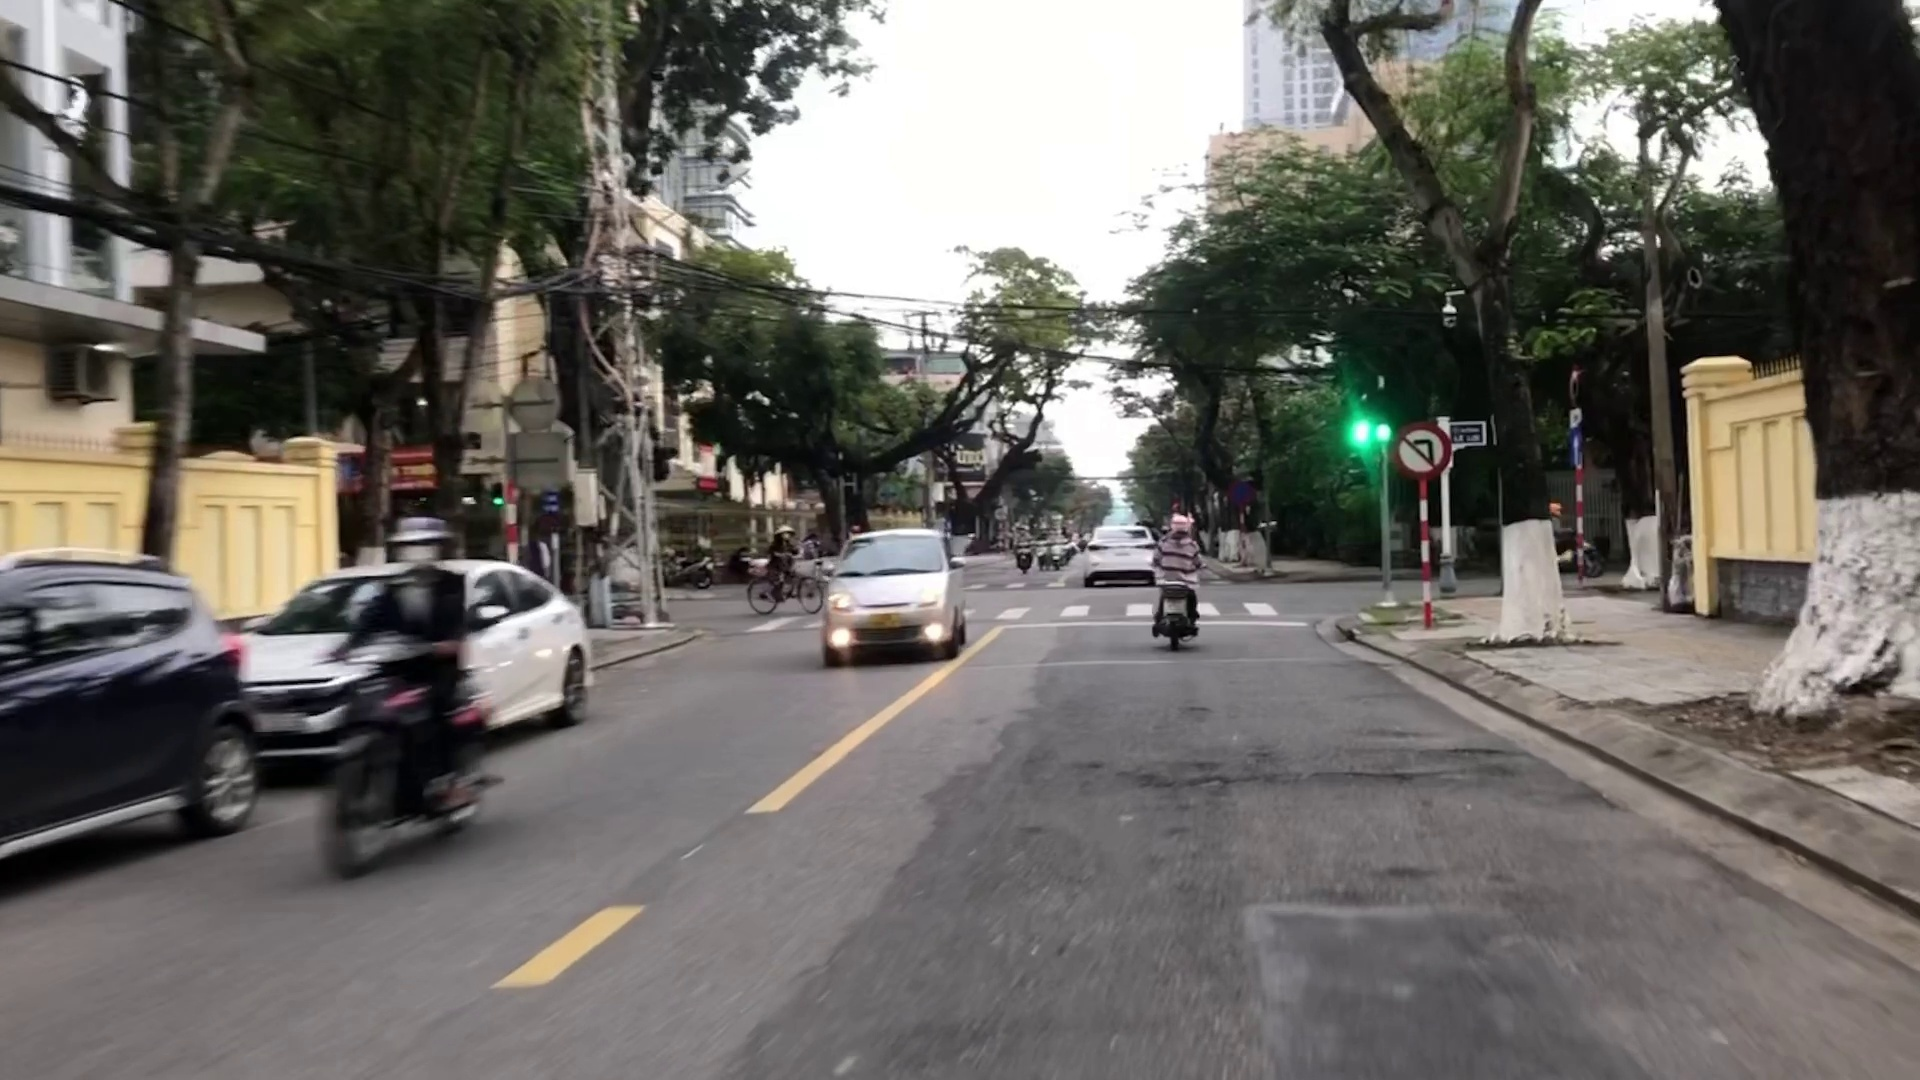Bien khac: (1396, 425, 1452, 477)
